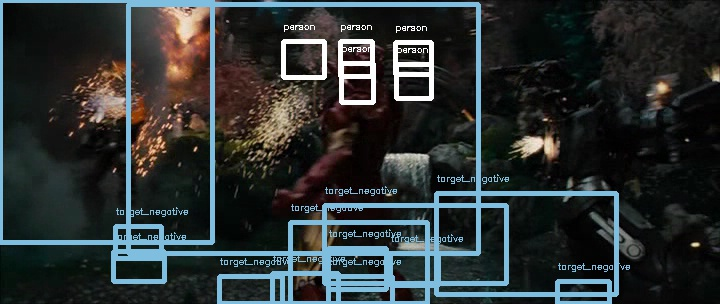person: (345, 38, 383, 89), (344, 38, 382, 89), (346, 38, 384, 89), (345, 37, 383, 88), (345, 39, 383, 90)
target_negative: (255, 162, 485, 300), (606, 97, 683, 294), (620, 55, 690, 193), (373, 267, 689, 292), (59, 227, 192, 246), (529, 18, 559, 75)
